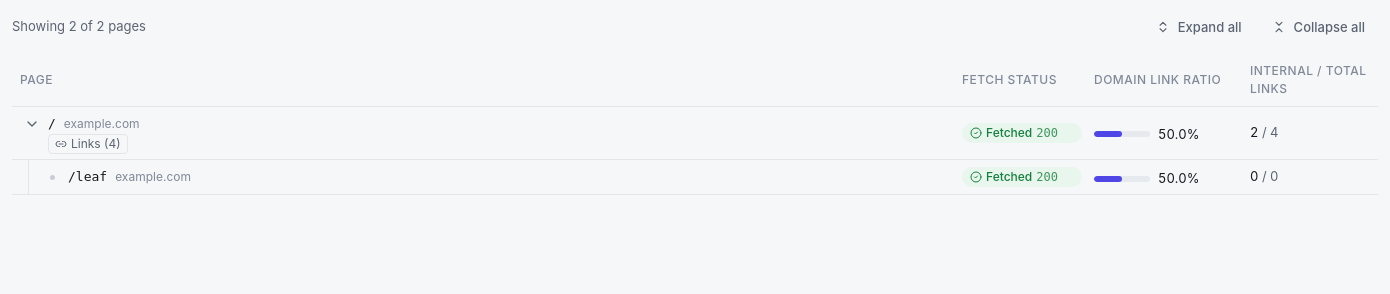
Scenario: TreeView › lazily loads and discloses the outgoing links of a page
Click the button "Links (4)" at (88, 144), box 48,134 -> 128,154
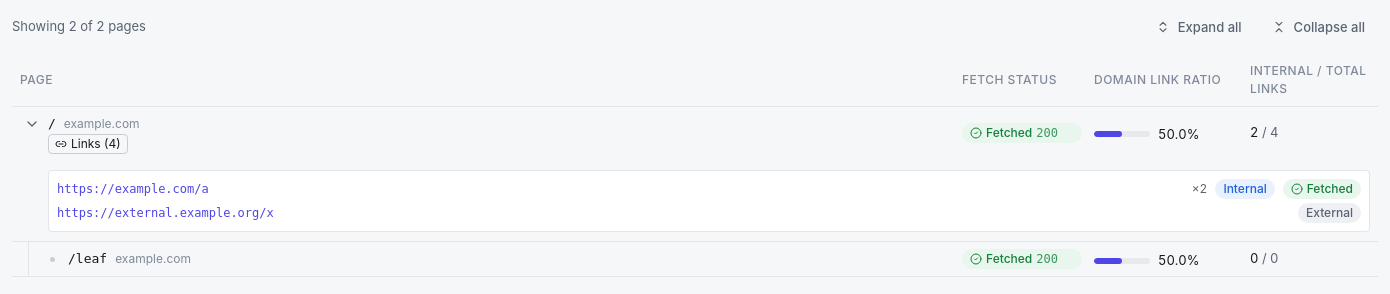
expect the button "Links (4)" is expanded: met
expect the list item "https://example.com/a ×2 Internal Fetched" is shown: met, box 57,178 -> 1361,198
expect the list item "https://external.example.org/x External" is shown: met, box 57,202 -> 1361,222
Click the button "Links (4)" at (88, 144), box 48,134 -> 128,154
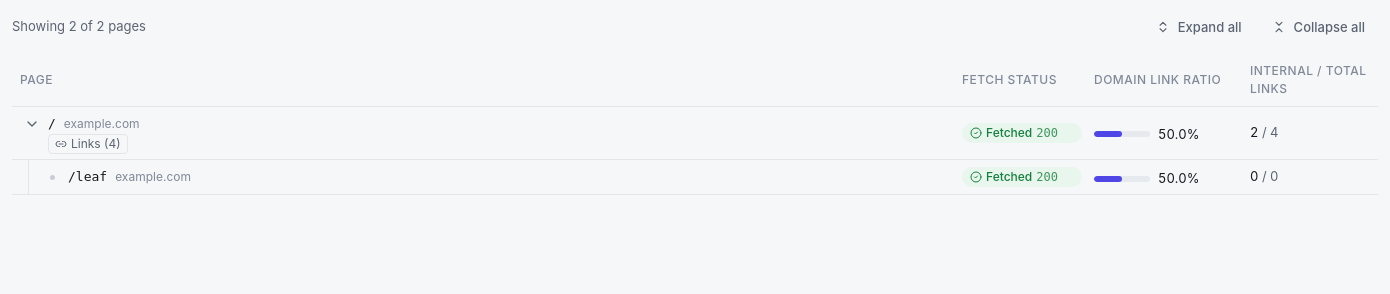
expect the button "Links (4)" is collapsed: met, box 48,134 -> 128,154
